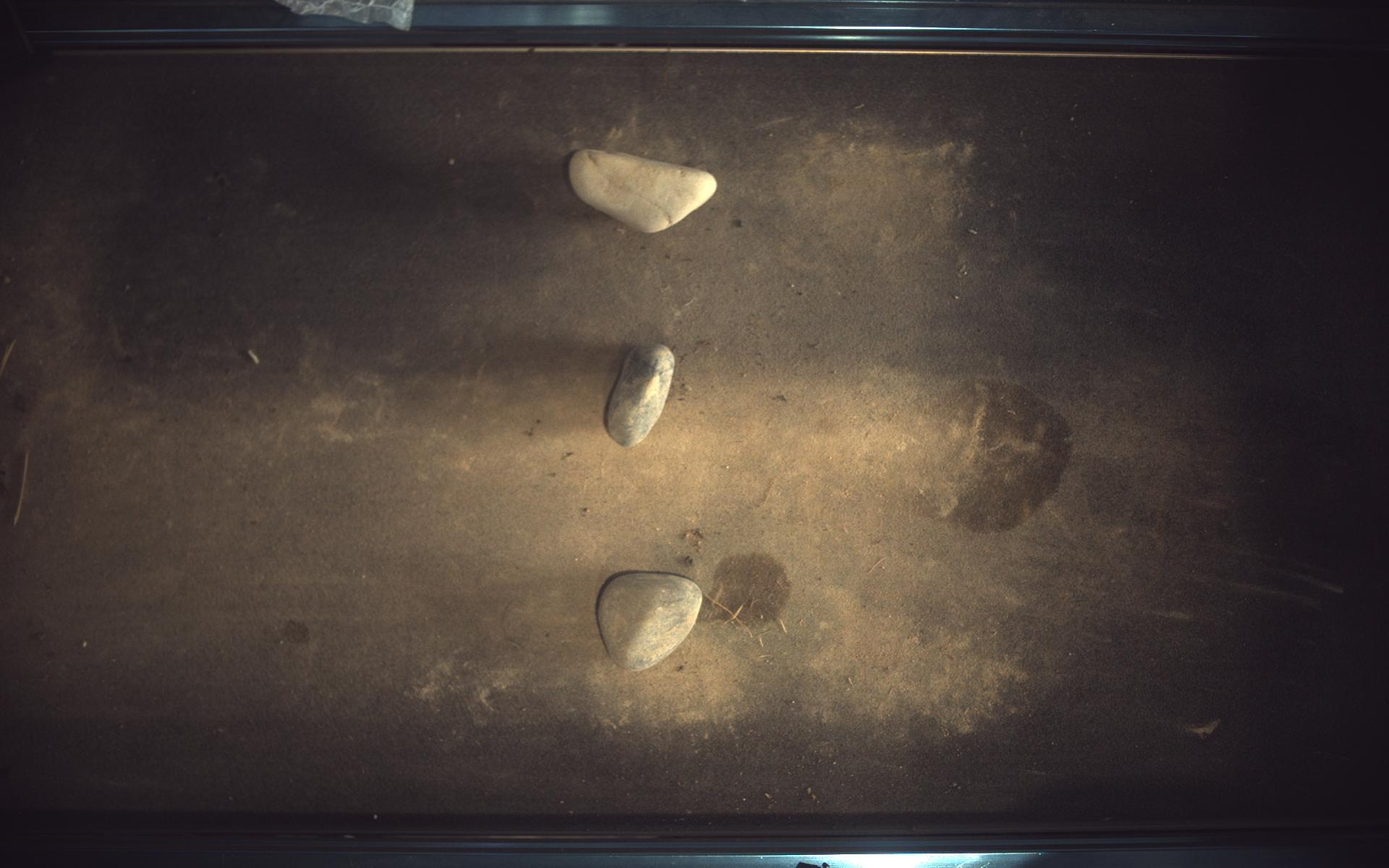stone: (569, 148, 718, 232), (597, 571, 703, 672), (606, 344, 676, 447)
